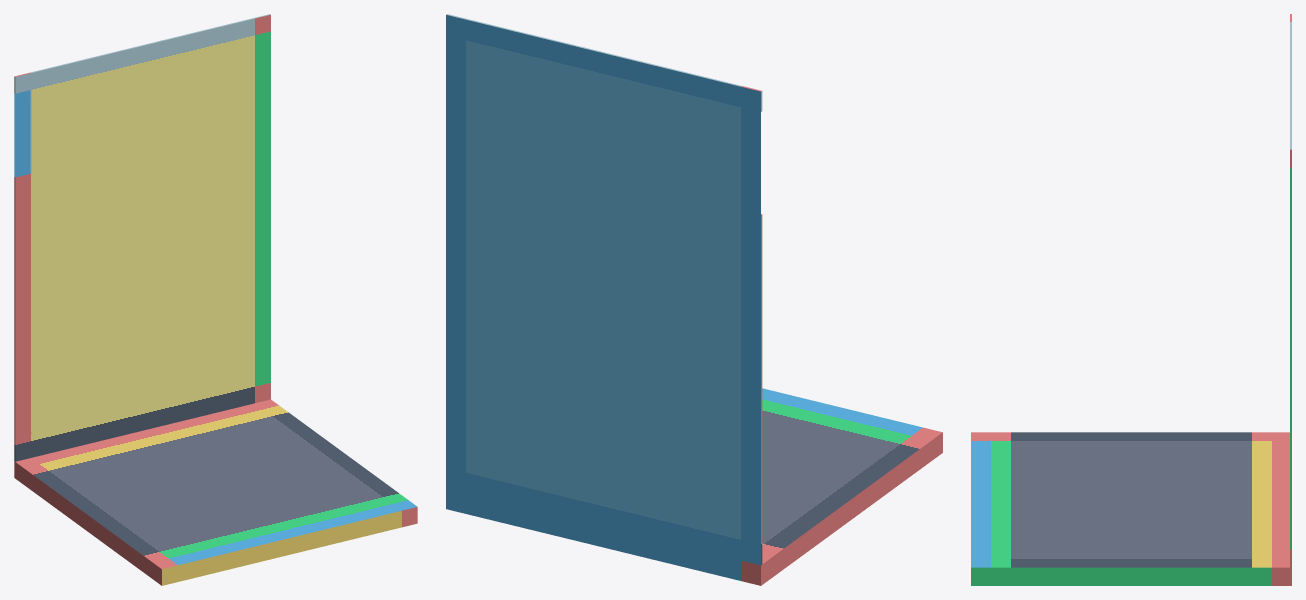
File: pale_vine_side_2.obj
3 views of the same model, side by side, from view 1: azimuth 30°, elevation 25°; view 2: azimuth 150°, elevation 25°; view 3: azimuth 270°, elevation 25° (orthographic). The views are drawn at different scales.
Parts seen in each view (by area): view 1: cube; view 2: cube; view 3: cube.
Part boxes in pixels (x1,y1,x2,y2): cube: [14, 14, 417, 585]; cube: [446, 14, 942, 585]; cube: [971, 14, 1291, 585].
Bounding box in the file's own units: 1 × 1.5 × 1.
